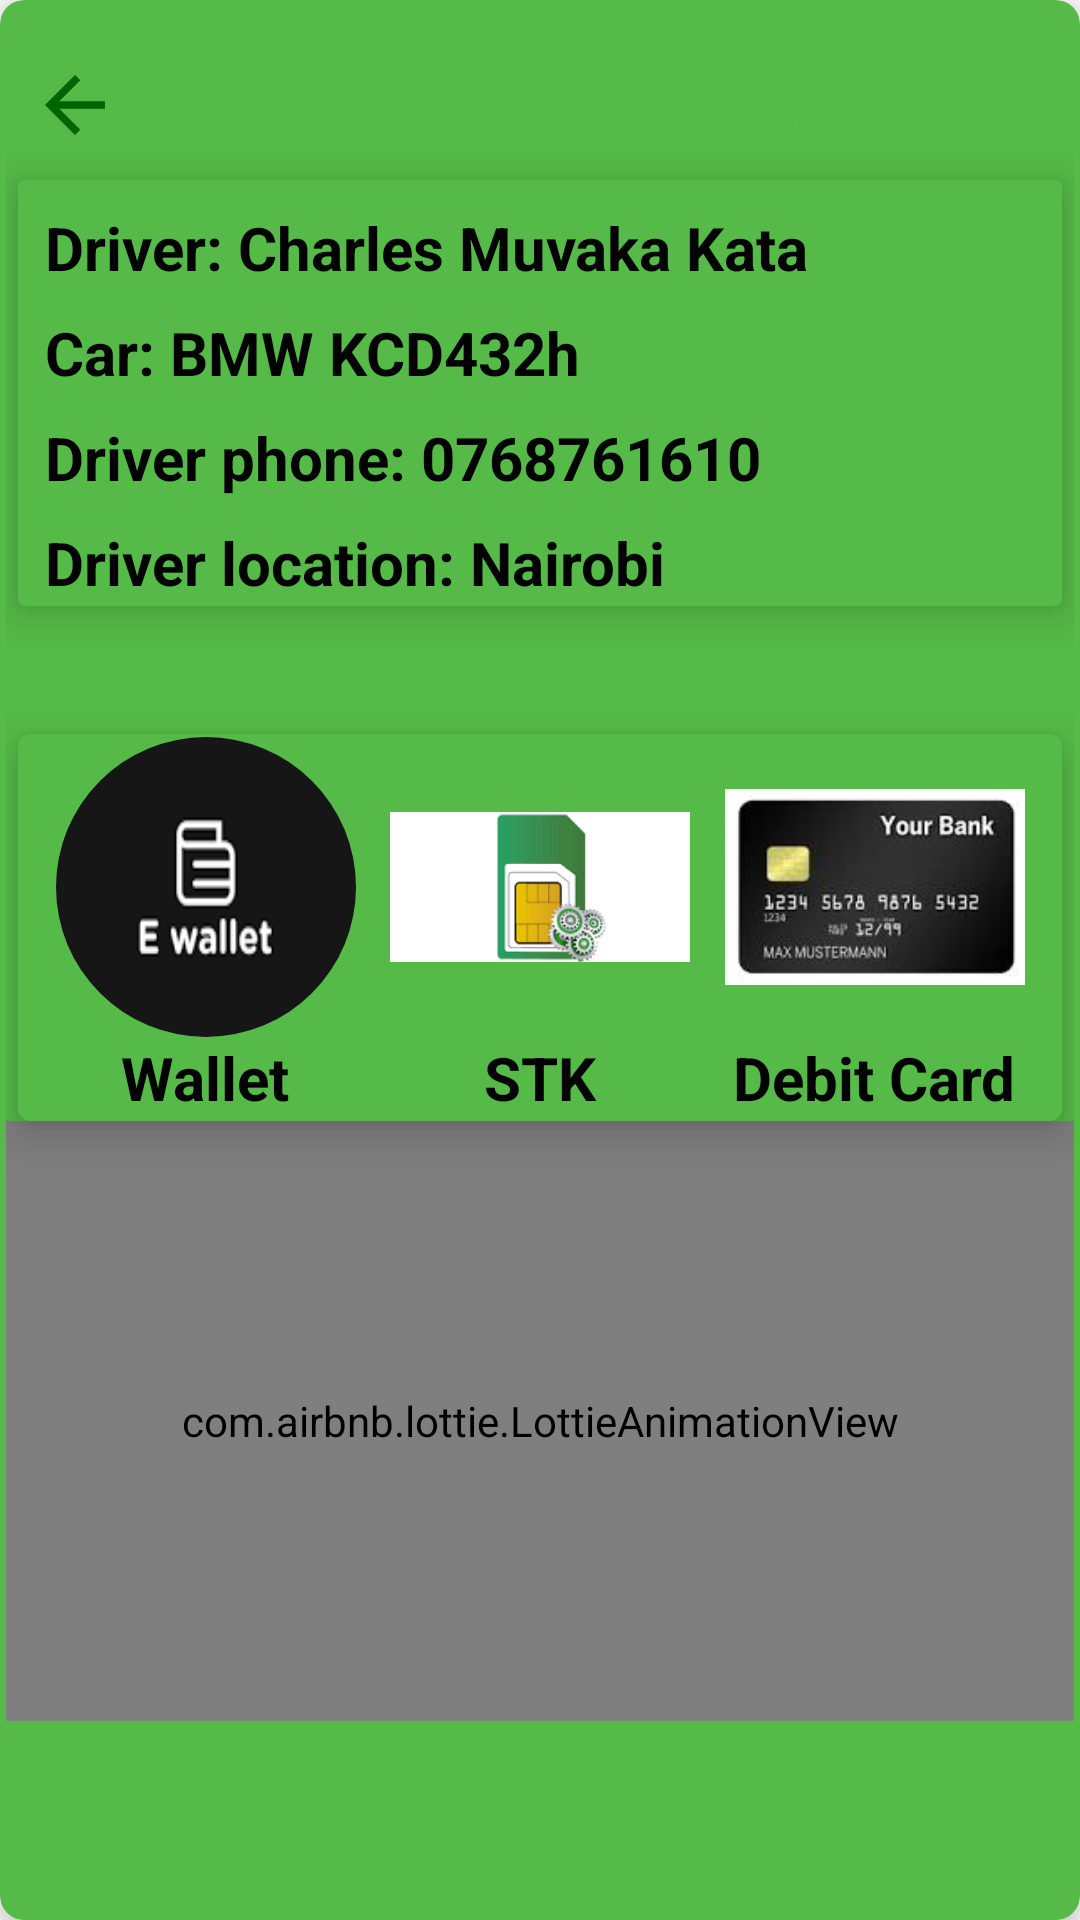

Icons on this 1080 x 1920 Android screen, each with the point to tap as (x,y):
back: (75,105)
